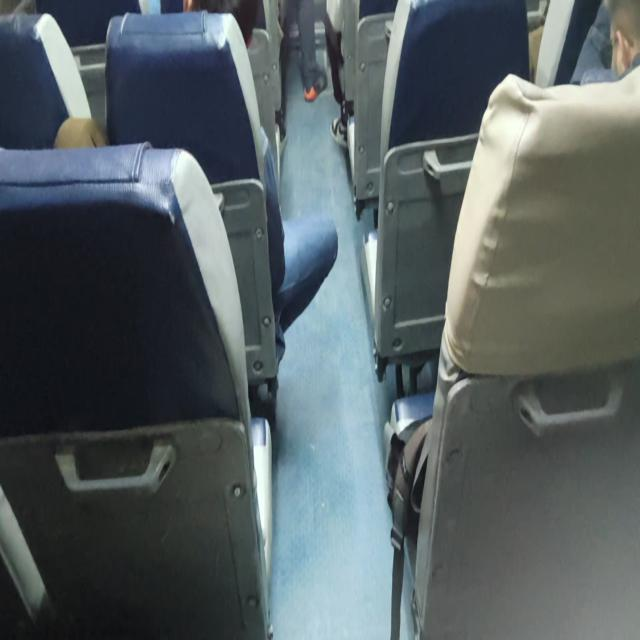person: (387, 1, 639, 636), (53, 2, 338, 418), (182, 0, 338, 362), (580, 0, 640, 85), (278, 0, 327, 104)
